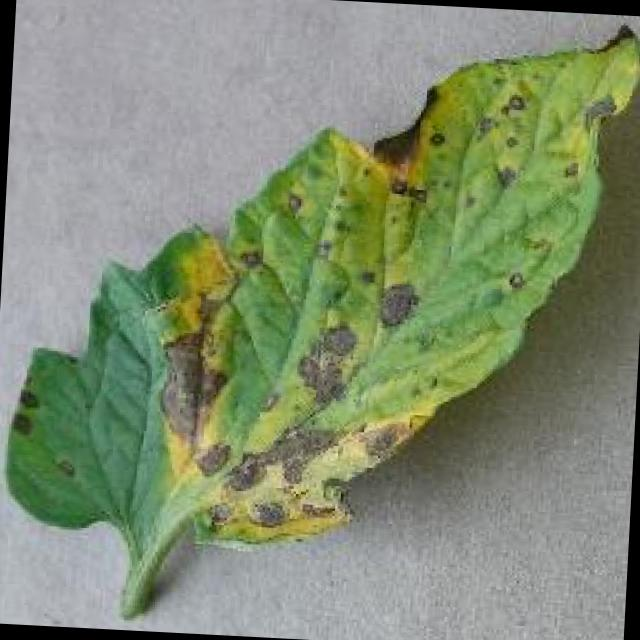Tomato_Early_Blight: (142, 40, 640, 570)
